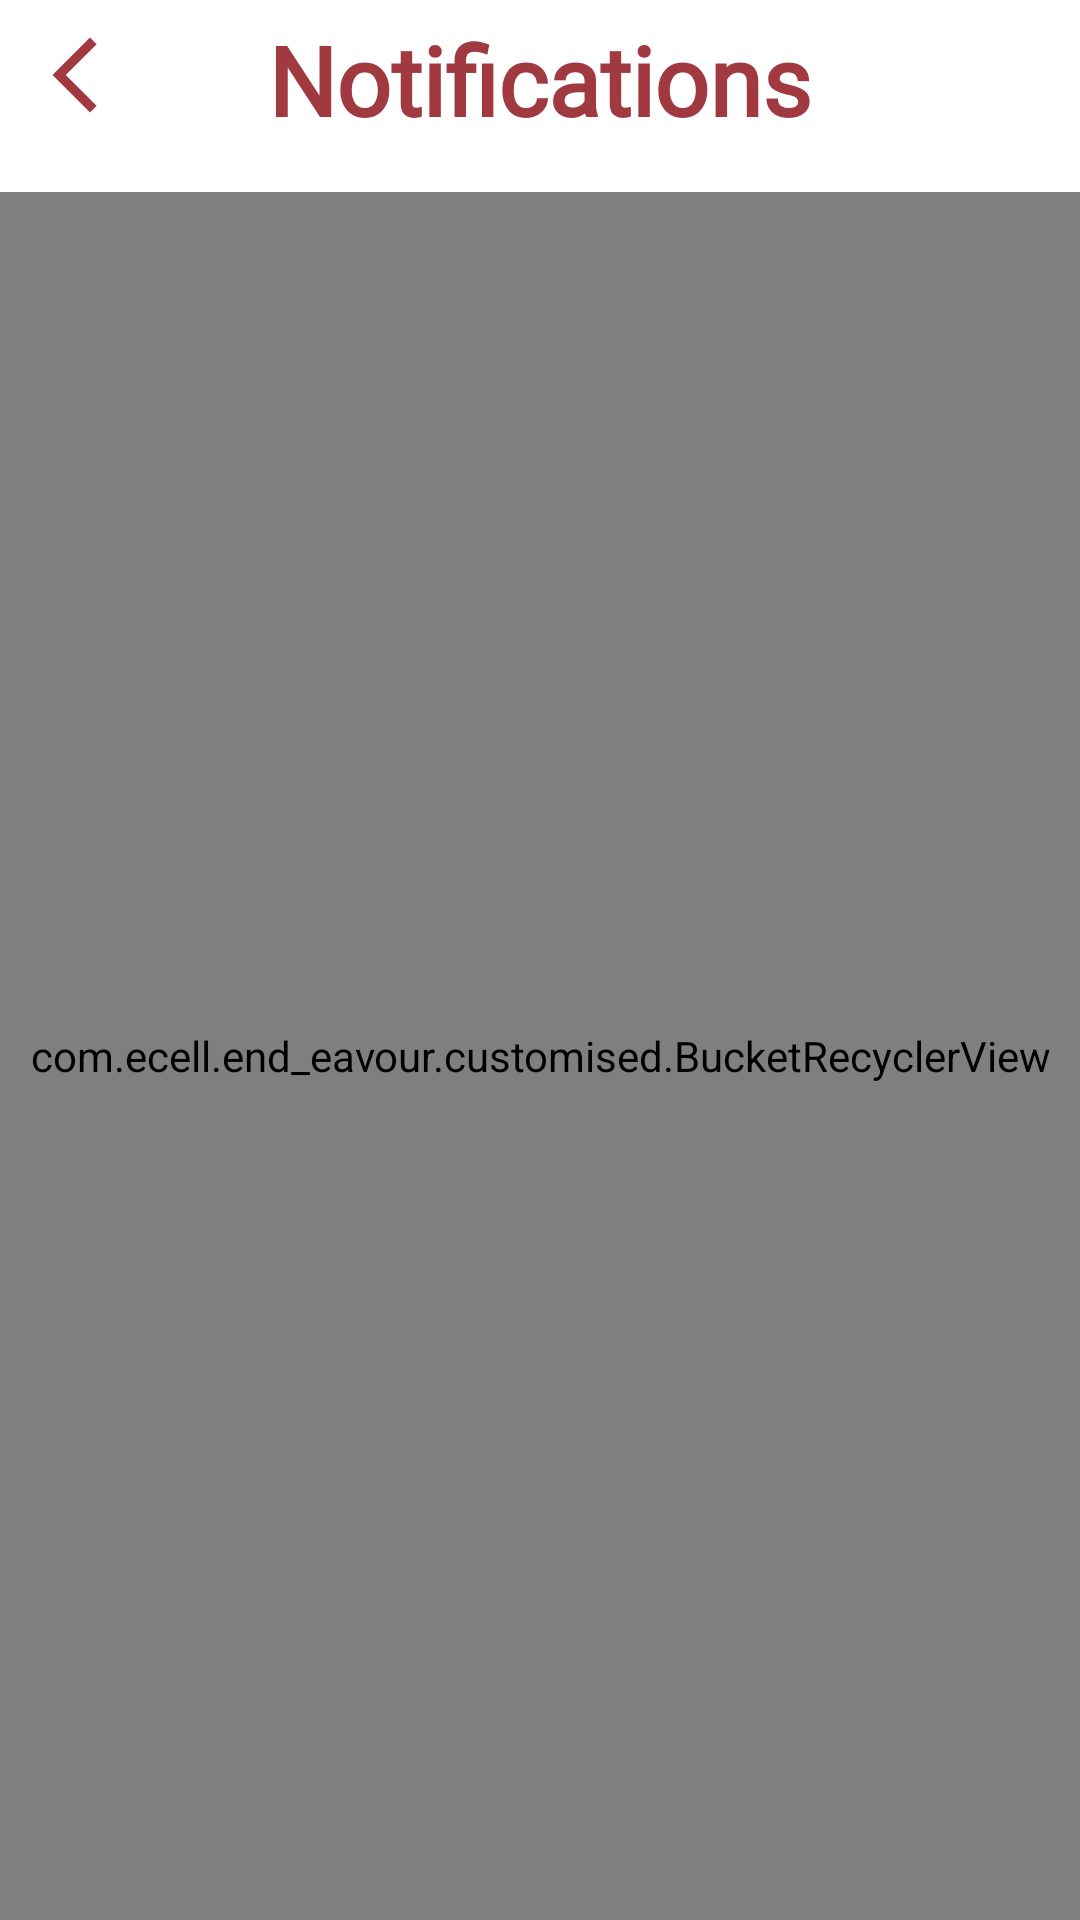

Screen size 1080 × 1920. Icon name, then its center in pixels as (x=x, y=y):
arrow back: (x=75, y=75)
